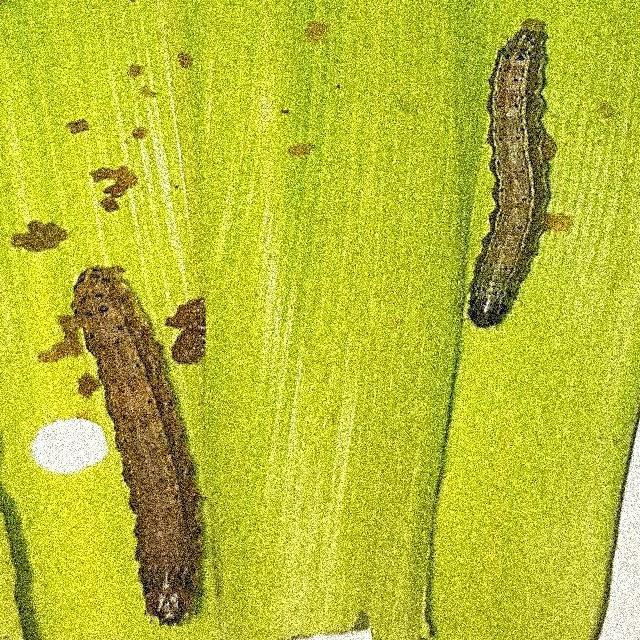gusano_cogollero: (68, 268, 204, 625), (464, 20, 558, 323)
